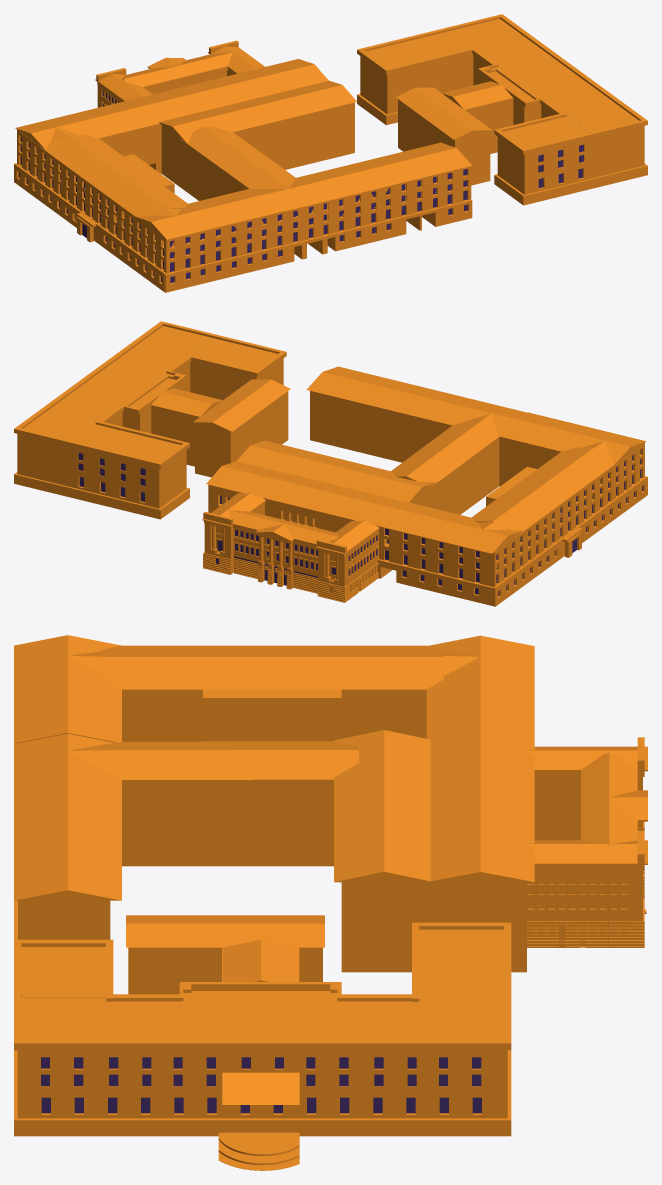
Rendered from UM_RADOM_CAŁY.fbx.
3 views of the same model, one above another, from view 1: azimuth 30°, elevation 25°; view 2: azimuth 150°, elevation 25°; view 3: azimuth 270°, elevation 25° (orthographic). The views are drawn at different scales.
Parts seen in each view (by area): view 1: UM_RADOM_CAŁY; view 2: UM_RADOM_CAŁY; view 3: UM_RADOM_CAŁY.
Part boxes in pixels (x1=…): UM_RADOM_CAŁY: x1=14, y1=14, x2=647, y2=292; UM_RADOM_CAŁY: x1=14, y1=321, x2=647, y2=606; UM_RADOM_CAŁY: x1=14, y1=635, x2=647, y2=1170.
Bounding box in the file's own units: 41.88 × 4.46 × 25.46.
Materials: 1 (1 with a texture image).
